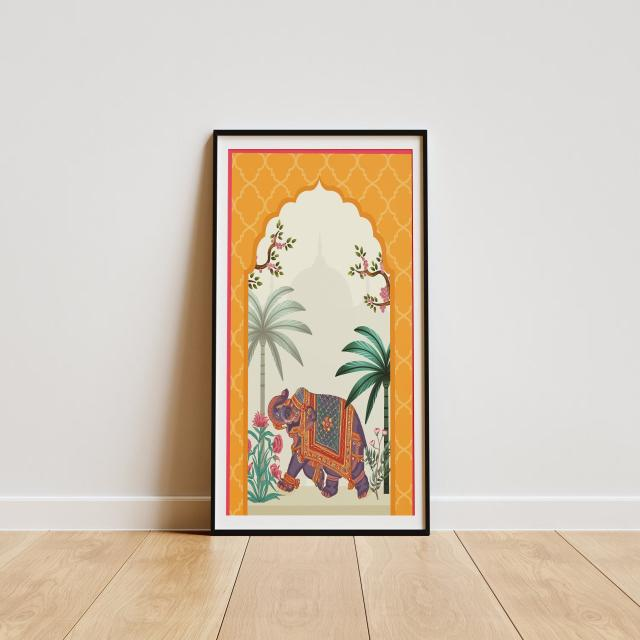painting: (211, 127, 430, 534)
